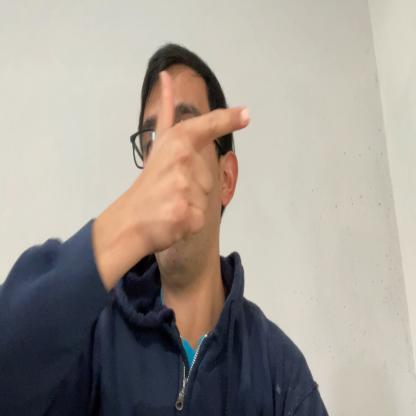G: (146, 70, 250, 256)
